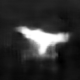plane: (13, 24, 72, 61)
